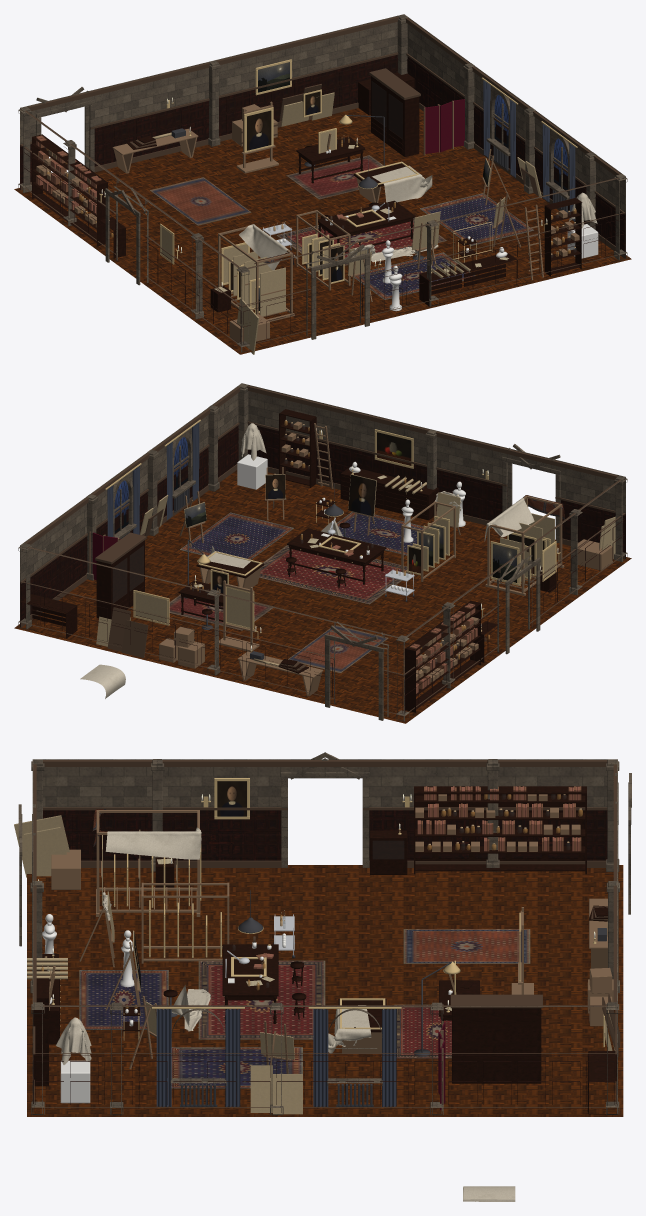
Rendered from conservation_lab.glb.
The picture shows the model from 3 angles, top to bottom: view 1: azimuth 30°, elevation 25°; view 2: azimuth 150°, elevation 25°; view 3: azimuth 270°, elevation 25°; orthographic projection. The views are drawn at different scales.
Parts seen in each view (by area): view 1: ConservationLab; view 2: ConservationLab; view 3: ConservationLab.
Part boxes in pixels (x1=…): ConservationLab: x1=14, y1=14, x2=631, y2=354; ConservationLab: x1=14, y1=383, x2=631, y2=723; ConservationLab: x1=14, y1=752, x2=631, y2=1201.
Size of the model in its own units: 16.23 by 6.77 by 16.58.
34 materials, 18 textured.
